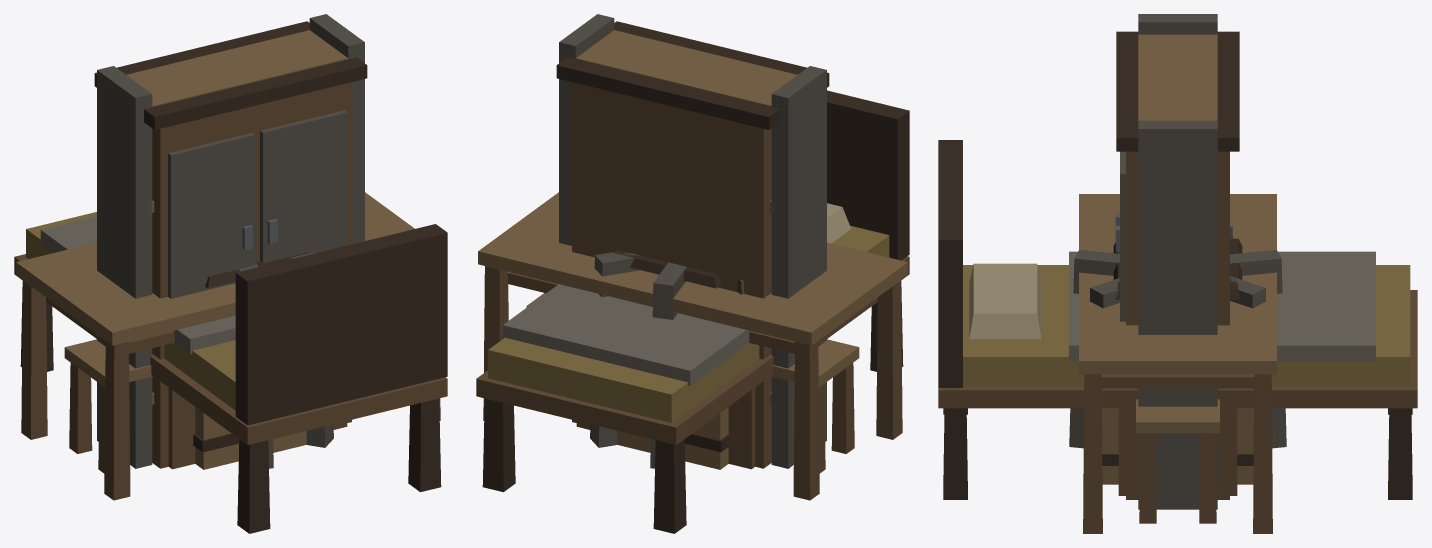
The model's file is furniture.gltf.
The picture shows the model from 3 angles, left to right: view 1: azimuth 30°, elevation 25°; view 2: azimuth 150°, elevation 25°; view 3: azimuth 270°, elevation 25°; orthographic projection. The views are drawn at different scales.
Parts seen in each view (by area): view 1: prop_furn_bed, prop_furn_cupboard, prop_furn_shelf, prop_furn_table, prop_furn_bench, prop_furn_crate, prop_furn_chest, prop_furn_barrel; view 2: prop_furn_bed, prop_furn_cupboard, prop_furn_table, prop_furn_shelf, prop_furn_bench, prop_furn_barrel, prop_furn_crate, prop_furn_chest; view 3: prop_furn_bed, prop_furn_shelf, prop_furn_table, prop_furn_cupboard, prop_furn_bench, prop_furn_barrel, prop_furn_crate, prop_furn_chest.
Part boxes in pixels (bbox=[...]): prop_furn_bed: bbox=[14, 212, 447, 533]; prop_furn_cupboard: bbox=[94, 21, 367, 468]; prop_furn_shelf: bbox=[97, 14, 364, 468]; prop_furn_table: bbox=[16, 192, 440, 500]; prop_furn_bench: bbox=[64, 339, 152, 473]; prop_furn_crate: bbox=[193, 407, 306, 469]; prop_furn_chest: bbox=[168, 387, 347, 469]; prop_furn_barrel: bbox=[205, 252, 333, 468]; prop_furn_bed: bbox=[476, 90, 909, 533]; prop_furn_cupboard: bbox=[556, 21, 829, 468]; prop_furn_table: bbox=[478, 192, 907, 500]; prop_furn_shelf: bbox=[559, 14, 826, 468]; prop_furn_bench: bbox=[526, 293, 859, 473]; prop_furn_barrel: bbox=[590, 250, 744, 468]; prop_furn_crate: bbox=[617, 407, 730, 469]; prop_furn_chest: bbox=[576, 387, 755, 469]; prop_furn_bed: bbox=[938, 140, 1417, 499]; prop_furn_shelf: bbox=[1138, 14, 1217, 509]; prop_furn_table: bbox=[1079, 194, 1276, 533]; prop_furn_cupboard: bbox=[1115, 31, 1239, 499]; prop_furn_bench: bbox=[1136, 399, 1219, 523]; prop_furn_barrel: bbox=[1069, 226, 1286, 448]; prop_furn_crate: bbox=[1102, 408, 1253, 484]; prop_furn_chest: bbox=[1118, 408, 1237, 495].
Size of the model in its own units: 1.6 by 1.7 by 1.94.
